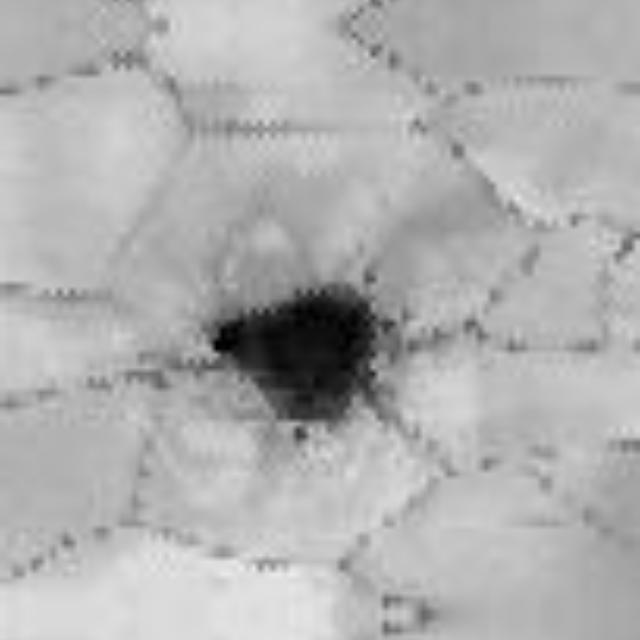good_void: (199, 267, 404, 438)
